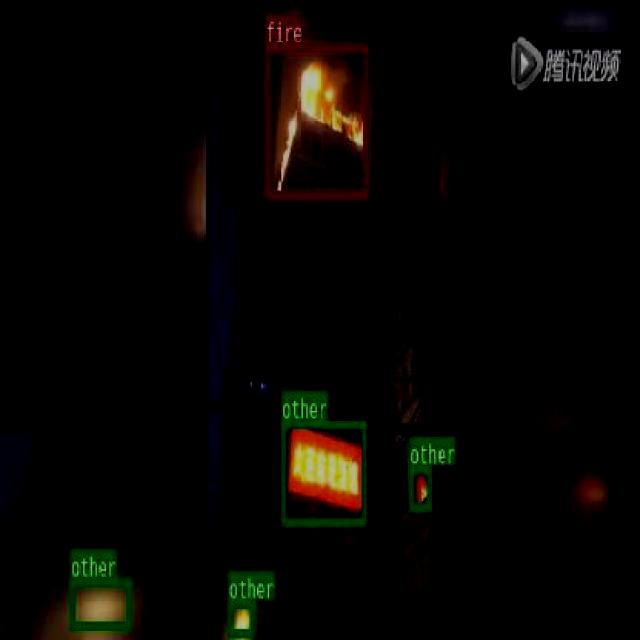fire: (264, 43, 368, 197)
